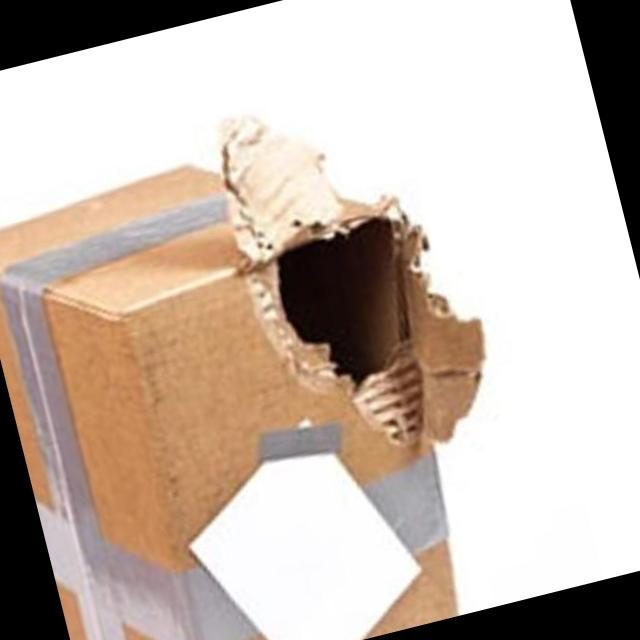tear: (217, 120, 483, 446)
